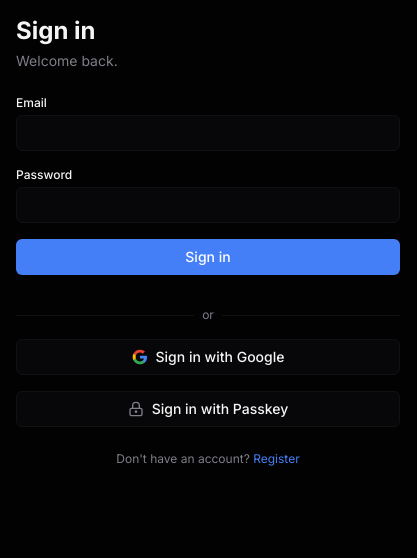
Test: LoginView › toggles back to sign-in mode
Click the button "Register" at (276, 459), box [253,451,300,467]
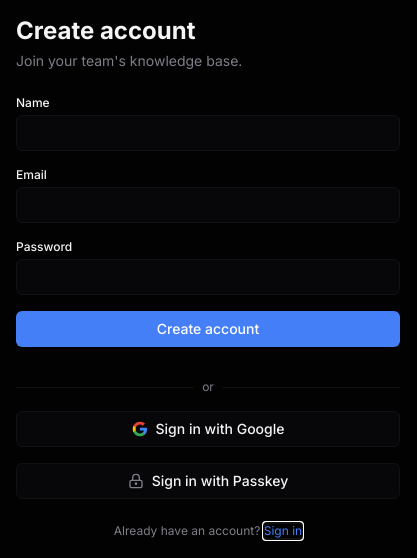
Click the button "Sign in" at (283, 531), box [264,523,302,539]
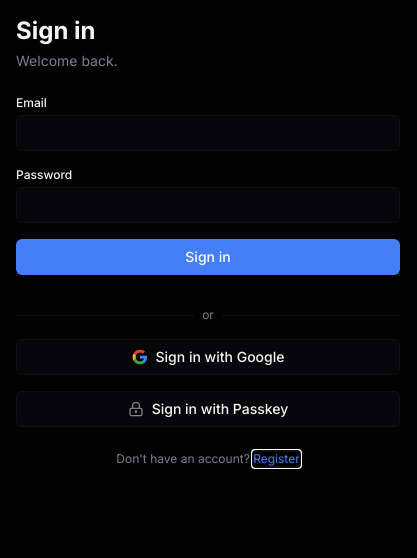
Check: the number of headings "Sign in" is 2, box [16,16,96,45]; [16,239,400,275]
Check: the heading "Sign in" is shown, box [16,16,96,45]
Check: the text "Welcome back." is shown, box [16,52,118,69]
